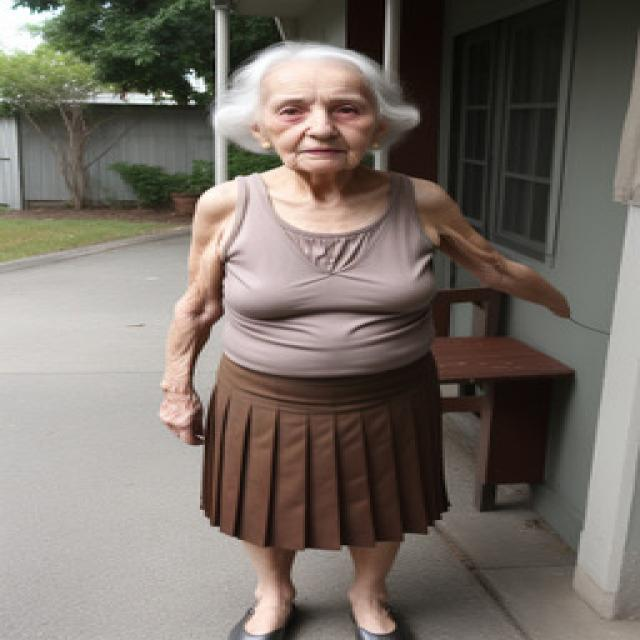Ai human 2: (150, 20, 502, 640)
